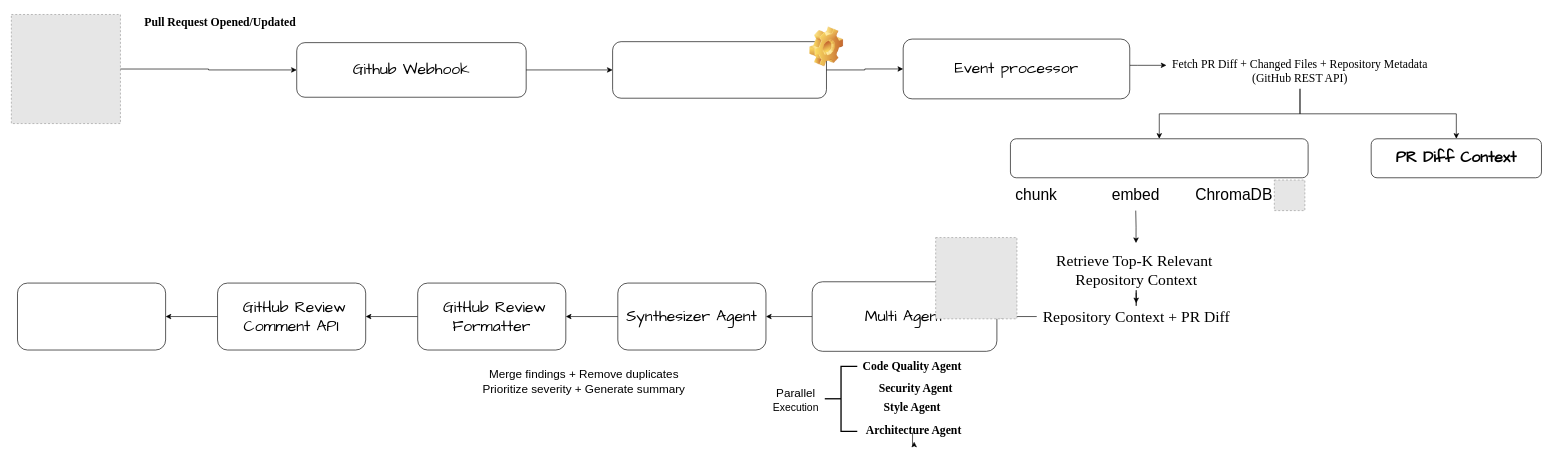
Some shapes in this 1553 by 462 pixel diagram are drawn without their labels. Grey dashed boxes stand in for pictures. Each missing label, with the box of its shape:
Backend: (612, 41, 826, 98)
RAG Retrieval pipeline: (1010, 138, 1308, 178)
Review posted to Pull Request: (17, 282, 166, 350)
